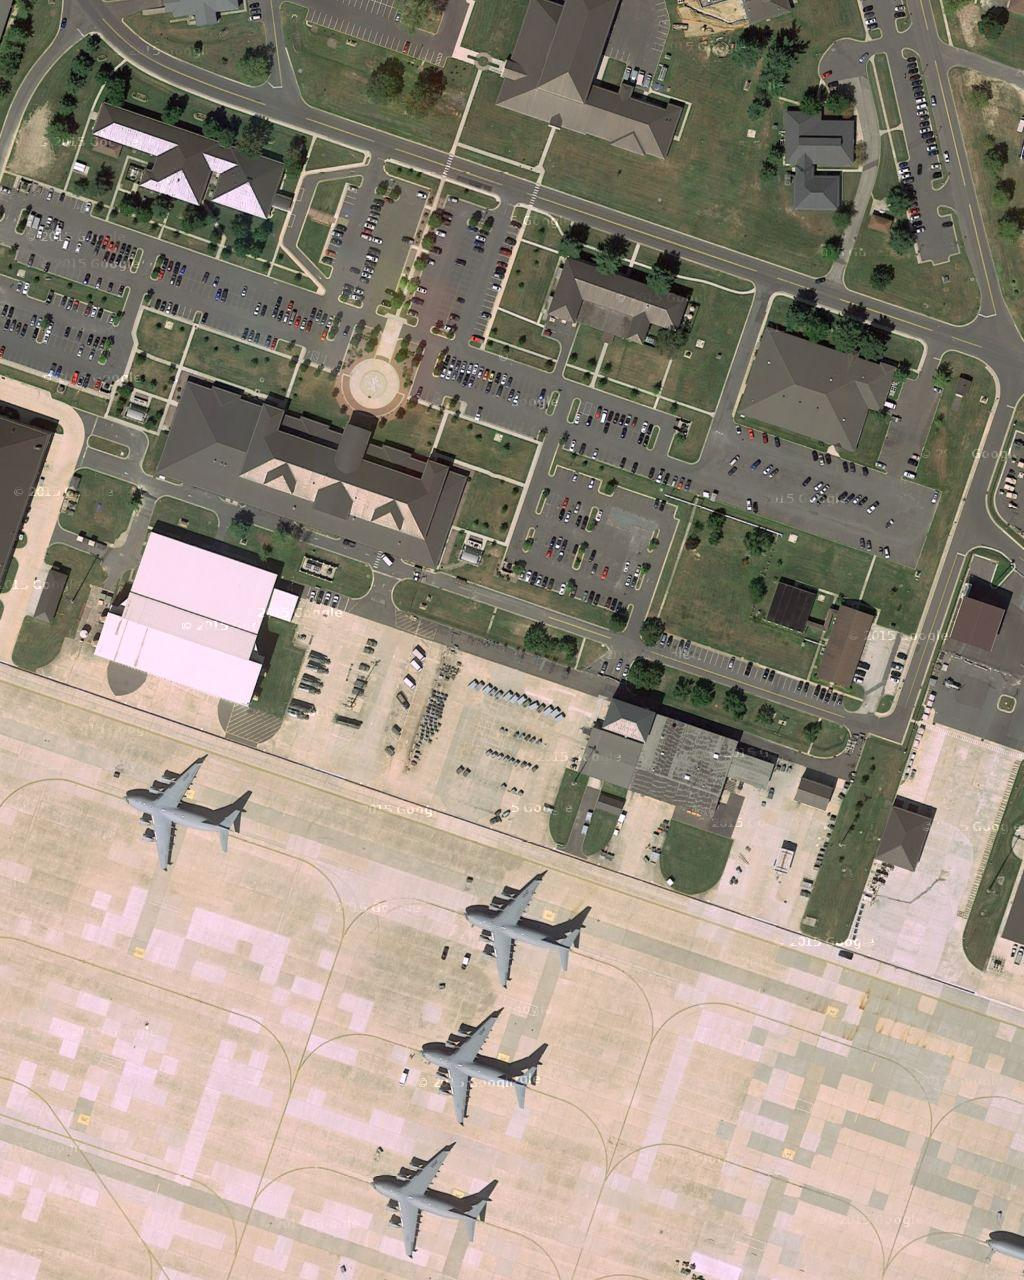C-17: (365, 1136, 496, 1262), (452, 870, 588, 991), (412, 1008, 548, 1126), (119, 755, 246, 869)
